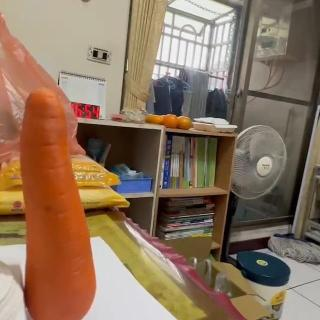carrot: (20, 85, 96, 320)
